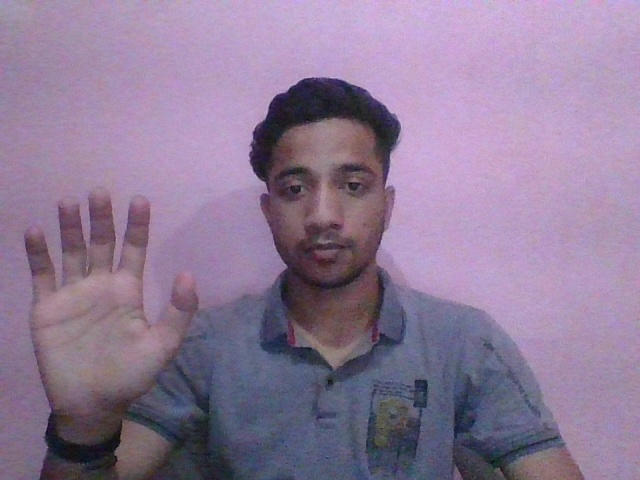Hello: (18, 182, 203, 435)
